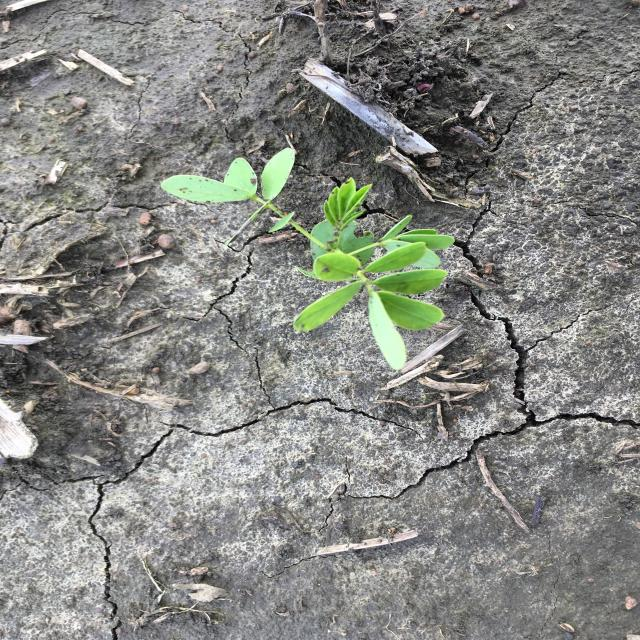Sicklepod: (156, 145, 458, 372)
